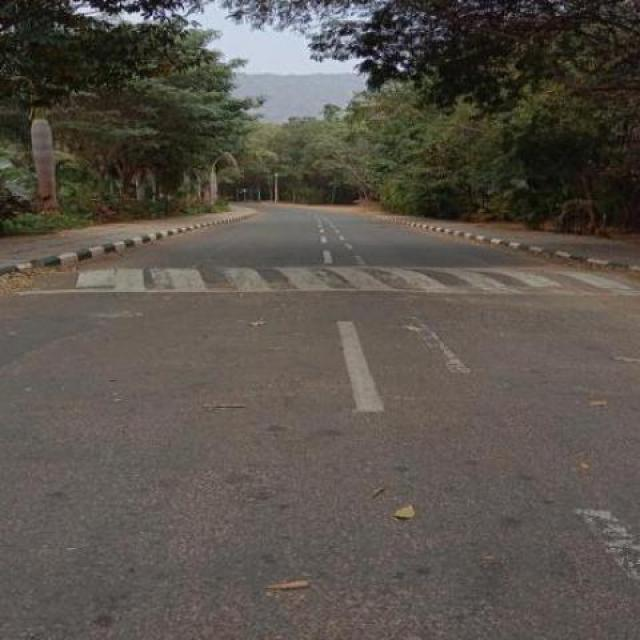Speed Bump: (0, 266, 639, 293)
